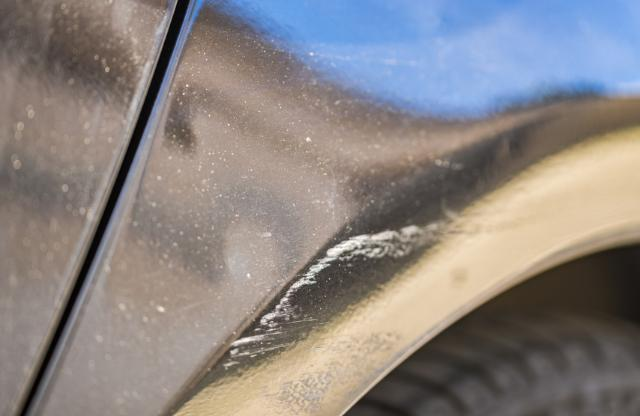Fender: (122, 152, 475, 388)
